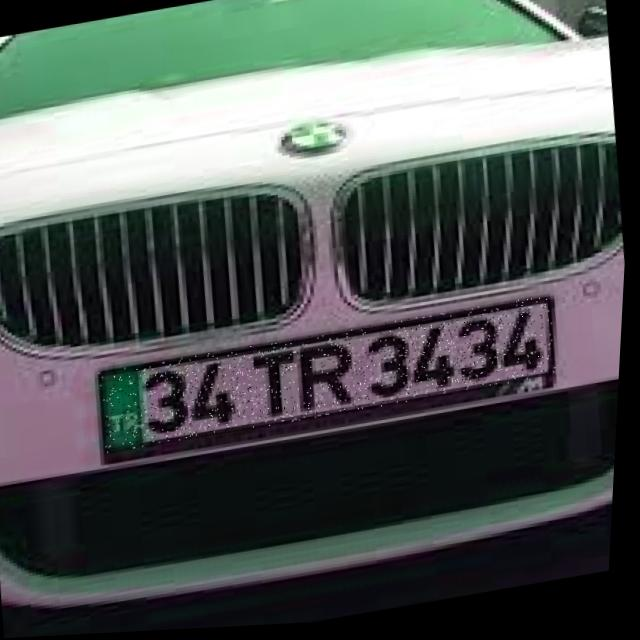license_plate: (99, 300, 563, 456)
